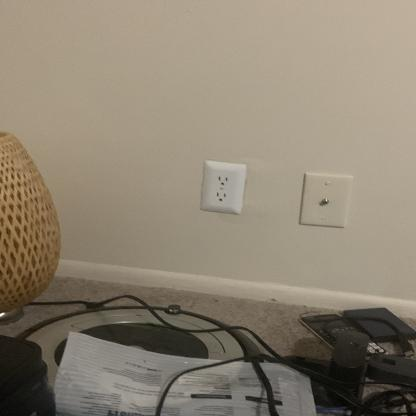OUTLET: (200, 160, 243, 212)
